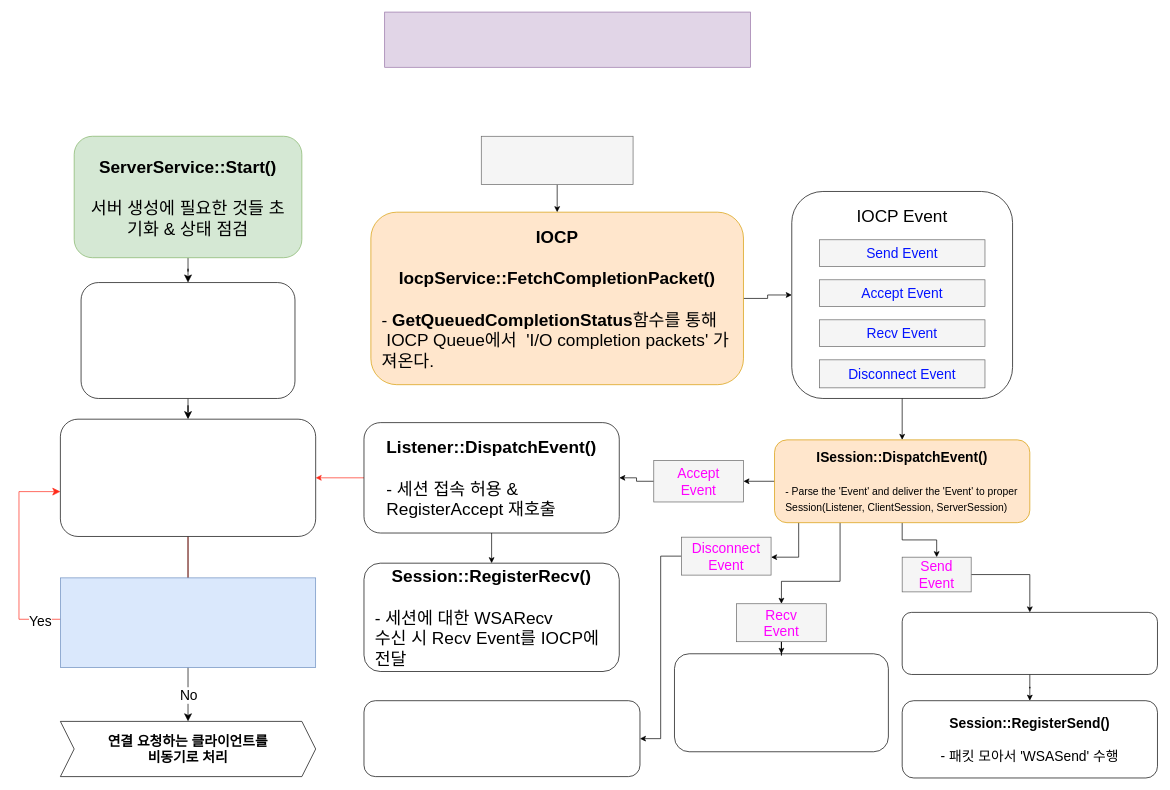
This 1170x790 diagram has some shape labels left out. Here are the shapes that lost their labels. From the top down, the centre of each, then its label:
At (567,39): "Flow Chart - <Network>".
At (557,160): "I/O 완료 통지".
At (187,340): "Listener::StartAccept() - Listener 가동에 필요한 준비".
At (188,477): "Listener::RegisterAccept() - IOCP에 Listen소켓 등록 - backlog만큼 ' AcceptEx ' 띄우기".
At (188,622): "AcceptEx가 WSA_IO_PENDING이외의 에러를 반환하였는가?".
At (1029,643): "Session::ProcessSend() - 송신 완료 후 처리".
At (781,702): "Session::ProcessRecv() - 수신한 데이터를 처리한다. - 비정상 수신일 경우 종료 시킴 (Disconnect Event)".
At (501,738): "Session::ProcessDisconnect() 연결 종료 처리".
